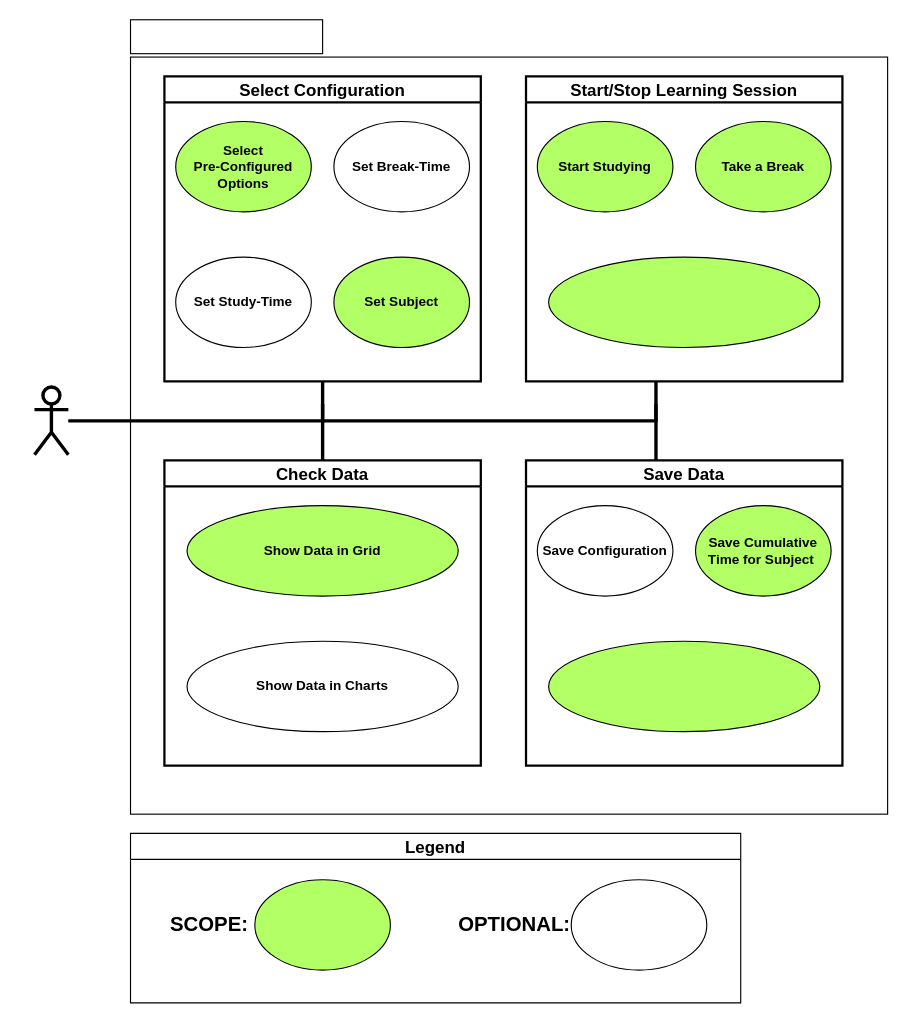
Image size: 907x1023. Some labels were removed from this diagram. Here are the shapes that lost their labels. From the top down, the centre of each, then its label:
the point at 226,36: Project Ortus
the point at 683,301: Stop Studying
the point at 50,420: Student
the point at 683,686: Save Overall Learning Time
